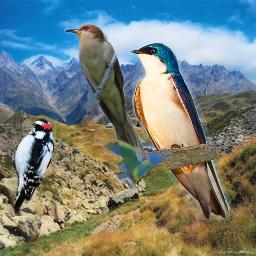Cuckoo: (64, 23, 151, 188)
Swallow: (130, 42, 230, 220)
Woodpecker: (8, 119, 57, 216)
